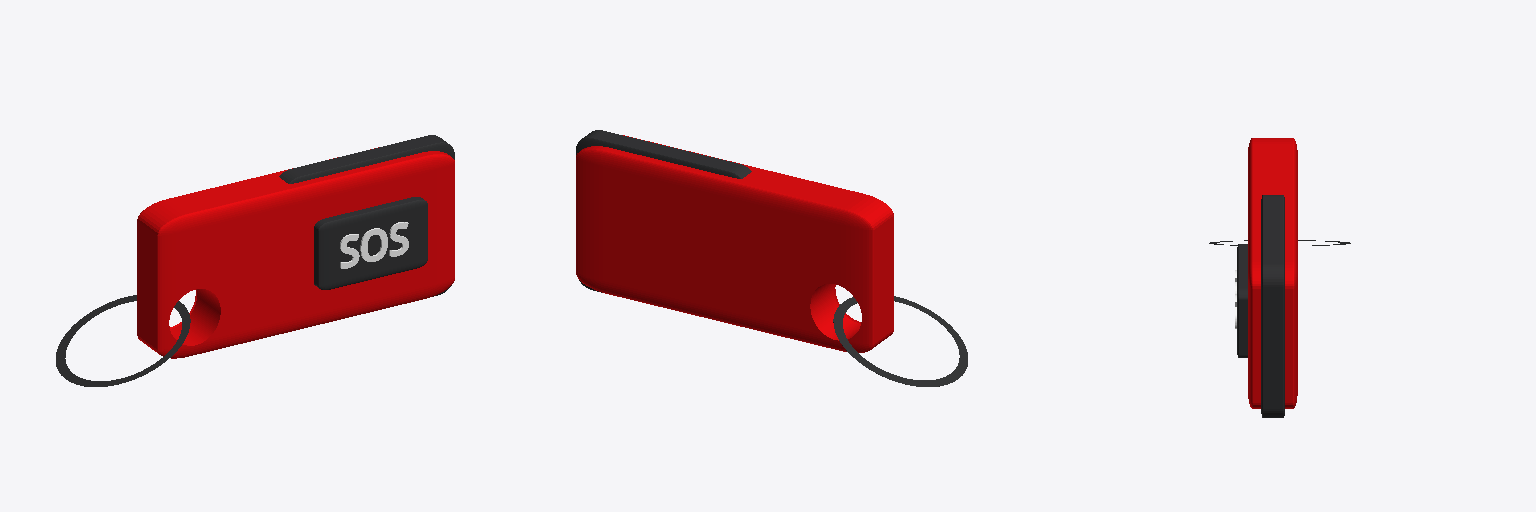
The model's file is beacon.obj.
3 views of the same model, side by side, from view 1: azimuth 30°, elevation 25°; view 2: azimuth 150°, elevation 25°; view 3: azimuth 270°, elevation 25° (orthographic).
Visible parts, largest first — view 1: obj_0; view 2: obj_0; view 3: obj_0.
Boxes of the visible parts, box(x1,y1,x2,y2) form: obj_0: box(56, 135, 454, 386); obj_0: box(576, 130, 967, 386); obj_0: box(1209, 138, 1350, 417).
Size of the model in its own units: 61.33 by 23.71 by 20.